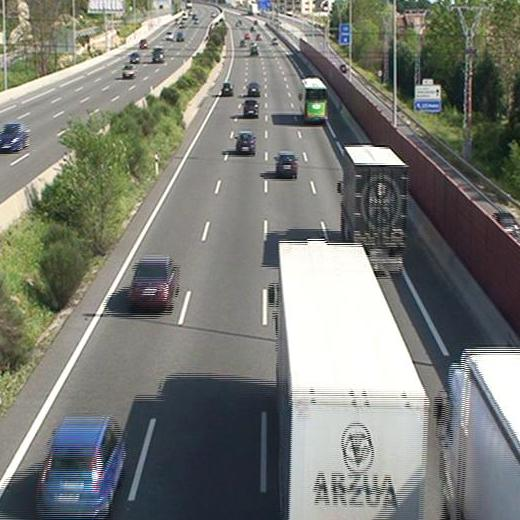bus: (299, 78, 326, 124)
car: (37, 418, 125, 517), (131, 257, 179, 309), (275, 151, 297, 178), (235, 130, 255, 154), (243, 100, 259, 118), (246, 82, 261, 96), (220, 83, 233, 96)
small-truck: (341, 146, 408, 274)
truck: (271, 241, 425, 520)
